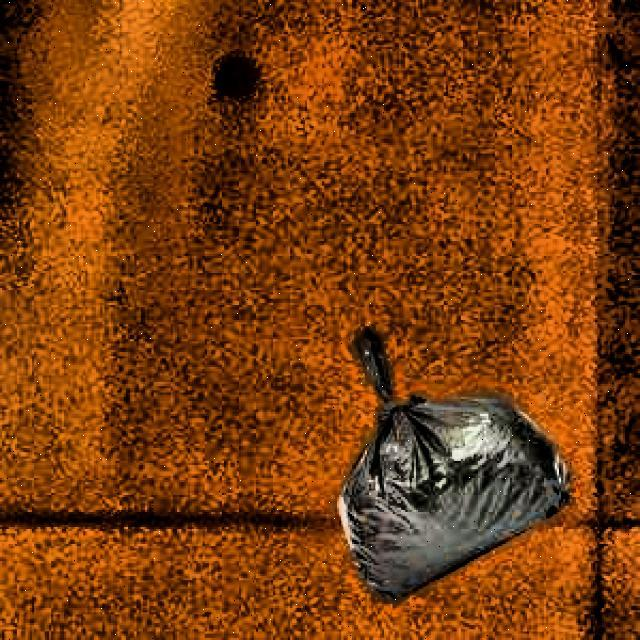Trashbag: (332, 350, 566, 552)
